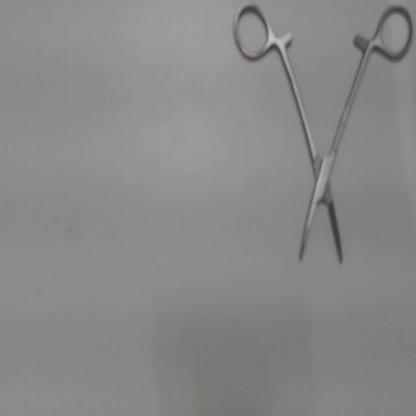Mayo Needle Holder: (228, 1, 416, 280)
